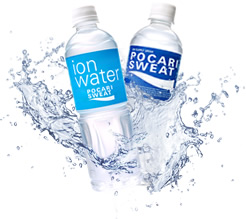POCARI SWEAT: (122, 1, 184, 171)
